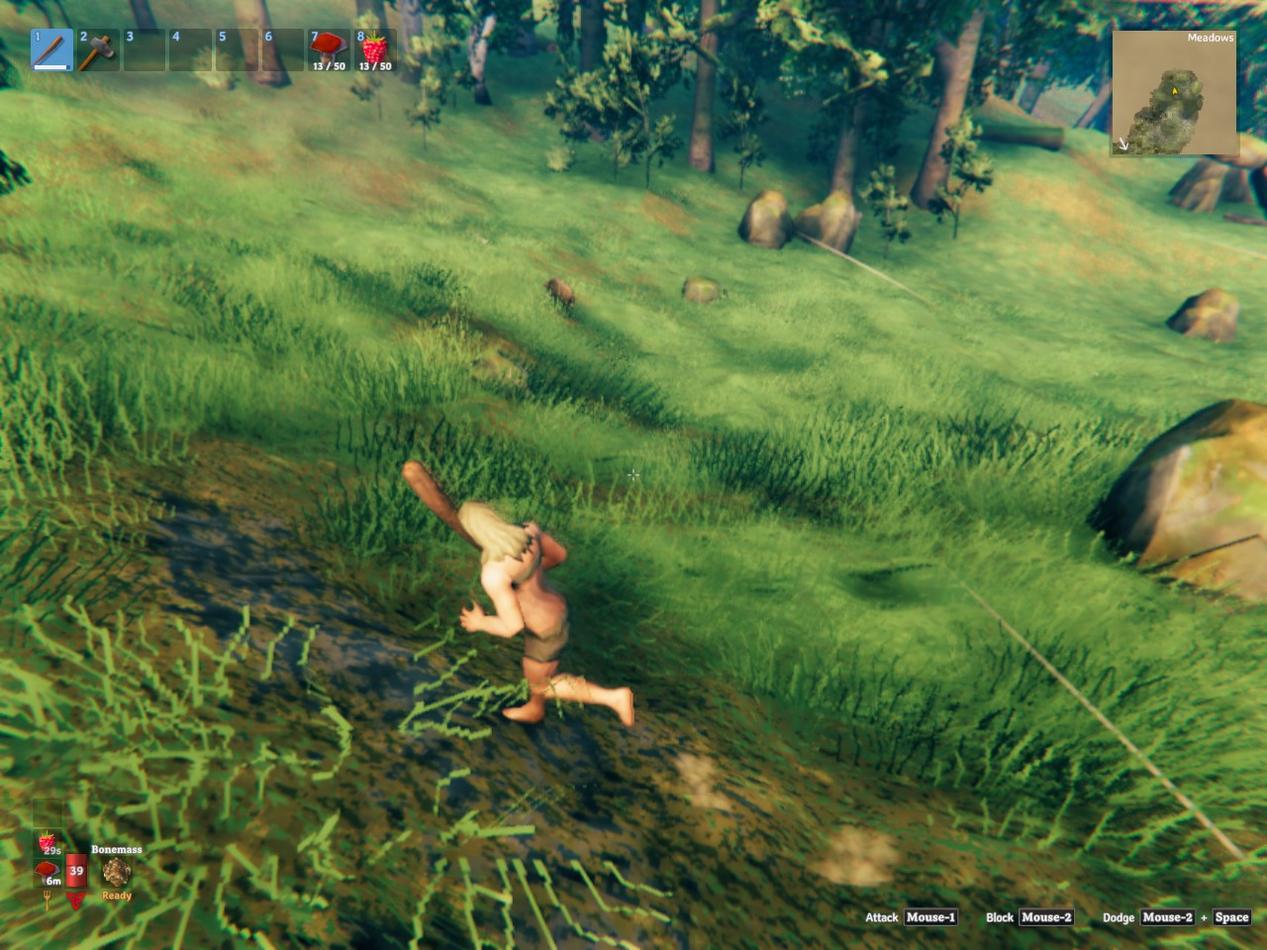Boar: (545, 278, 574, 310)
